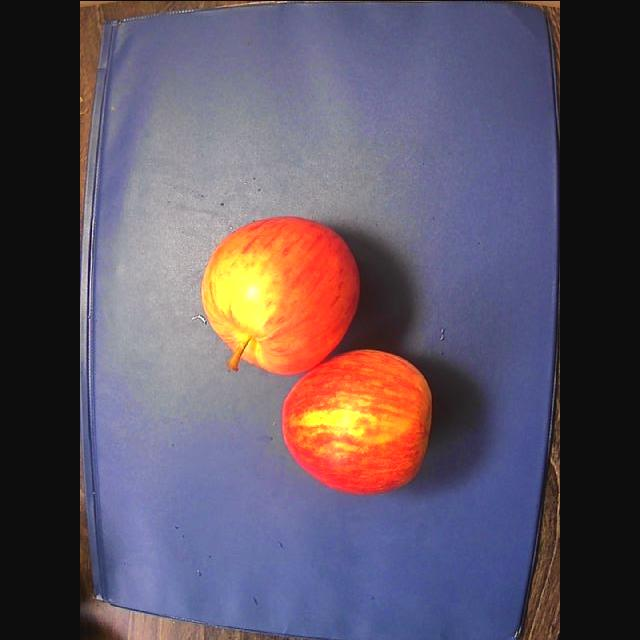manzana: (201, 216, 358, 373), (283, 349, 431, 493)
